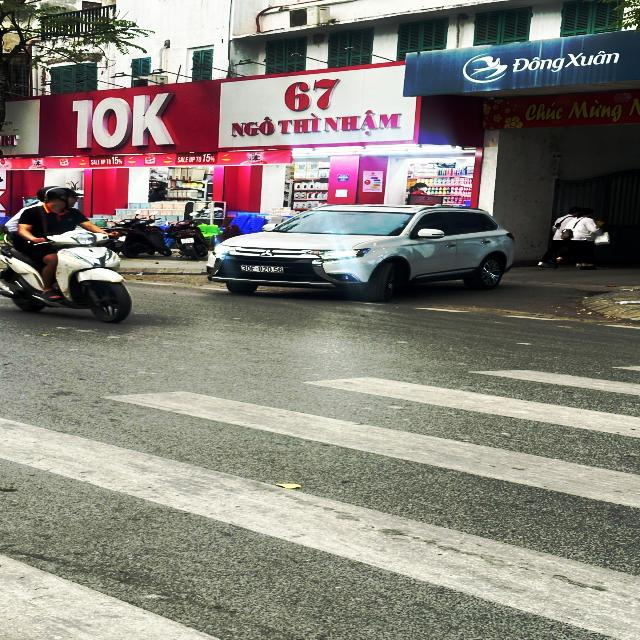license_plate: (240, 265, 286, 275)
